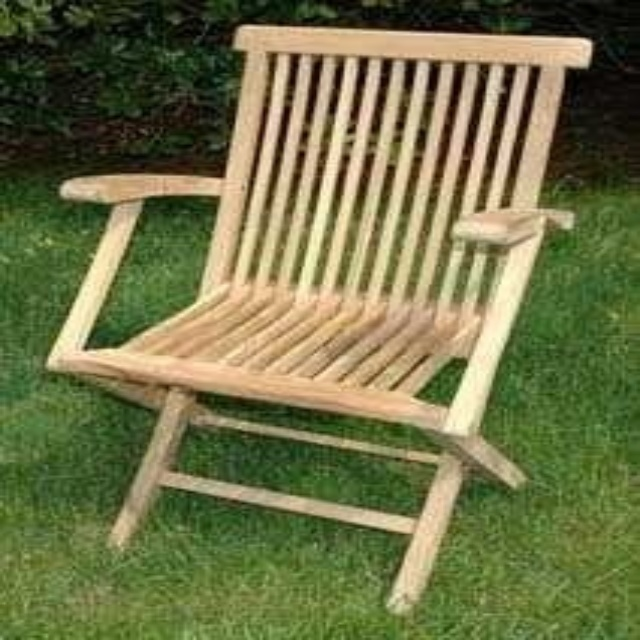obstacle: (48, 27, 589, 611)
